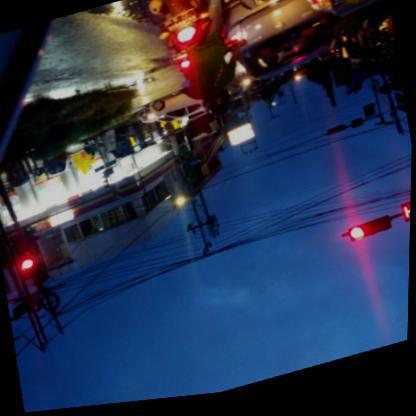red: (349, 224, 396, 249), (13, 233, 38, 278)
